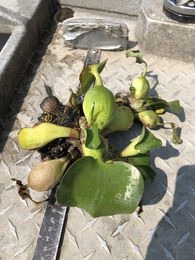water_hyacinth: (19, 51, 179, 217)
